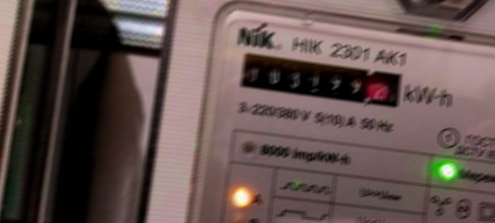0: (244, 60, 258, 80), (267, 62, 279, 82)
1: (309, 65, 319, 84)
3: (288, 67, 298, 86)
6: (371, 84, 381, 100)
9: (349, 74, 360, 92), (329, 69, 339, 88)
screen: (233, 45, 408, 112)
